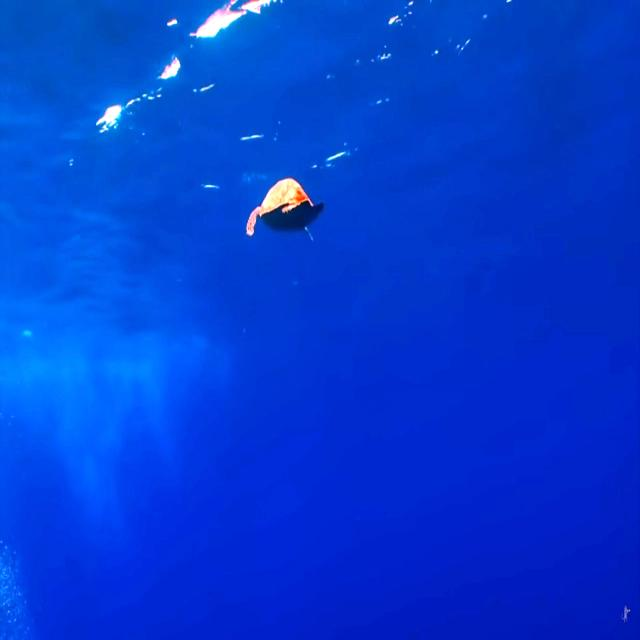Sea turtle: (246, 177, 324, 241)
